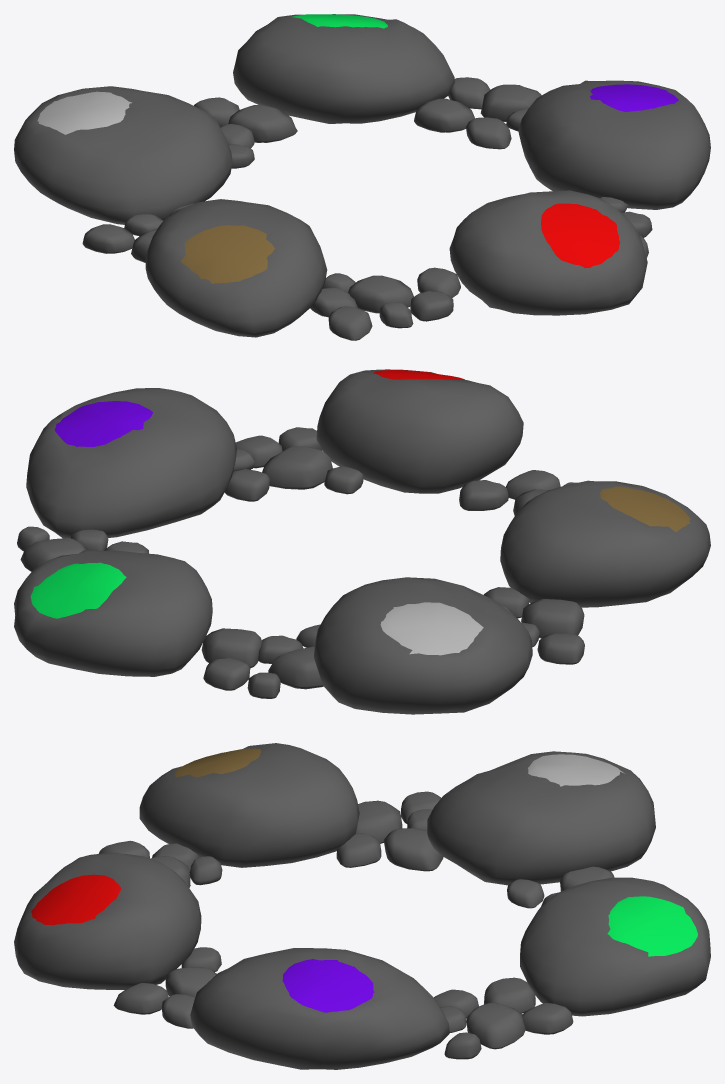
Rendered from sakuraBase.fbx.
3 renders of one model, top to bottom at view 1: azimuth 30°, elevation 25°; view 2: azimuth 150°, elevation 25°; view 3: azimuth 270°, elevation 25°, orthographic. The views are drawn at different scales.
Parts seen in each view (by area): view 1: stone_base; view 2: stone_base; view 3: stone_base.
Boxes of the visible parts, x1,y1,x2,y2 form: stone_base: [14, 14, 710, 340]; stone_base: [14, 369, 710, 714]; stone_base: [14, 743, 710, 1069].
Size of the model in its own units: 1.85 by 0.27 by 1.91.
